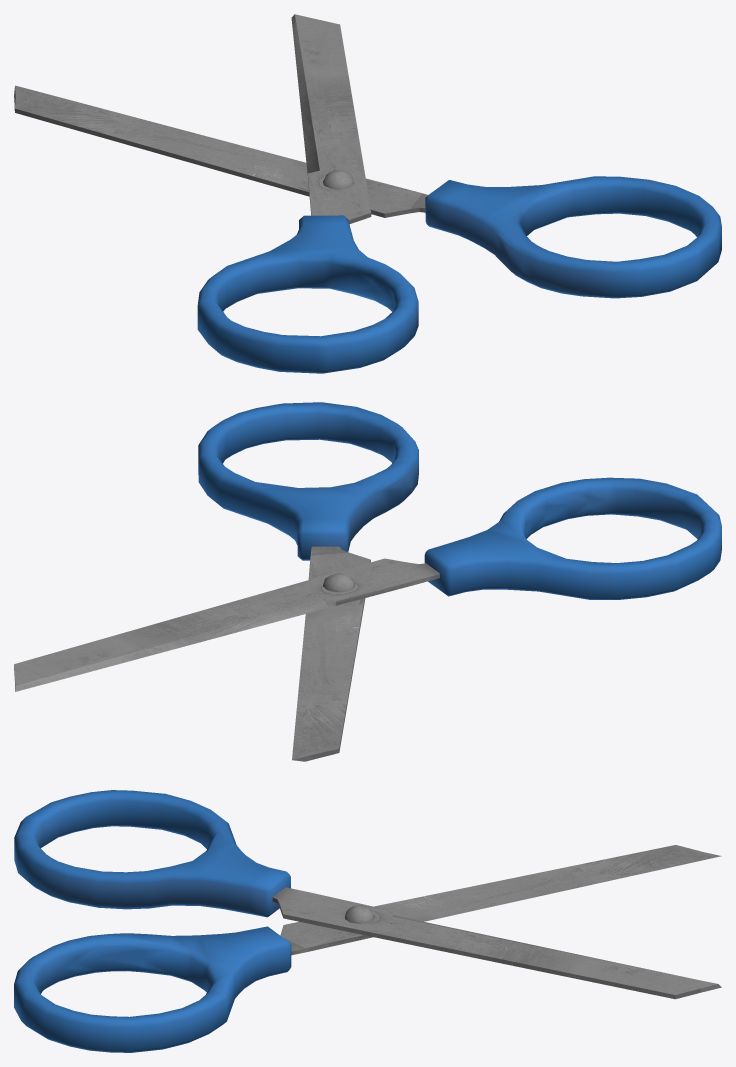
The model's file is basicshapes-scissors.glb.
3 views of the same model, one above another, from view 1: azimuth 30°, elevation 25°; view 2: azimuth 150°, elevation 25°; view 3: azimuth 270°, elevation 25° (orthographic). The views are drawn at different scales.
Visible parts, largest first — view 1: scissor_L_1, scissor_R_2; view 2: scissor_R_2, scissor_L_1; view 3: scissor_R_2, scissor_L_1, rivet_0.
Part boxes in pixels (x1,y1,x2,y2): scissor_L_1: (14,85,721,298); scissor_R_2: (197,14,418,373); scissor_R_2: (14,477,721,691); scissor_L_1: (198,402,418,761); scissor_R_2: (14,790,721,999); scissor_L_1: (14,845,721,1052); rivet_0: (345,905,374,923).
Size of the model in its own units: 0.1204 by 0.0078 by 0.1524.
2 materials, 2 textured.
